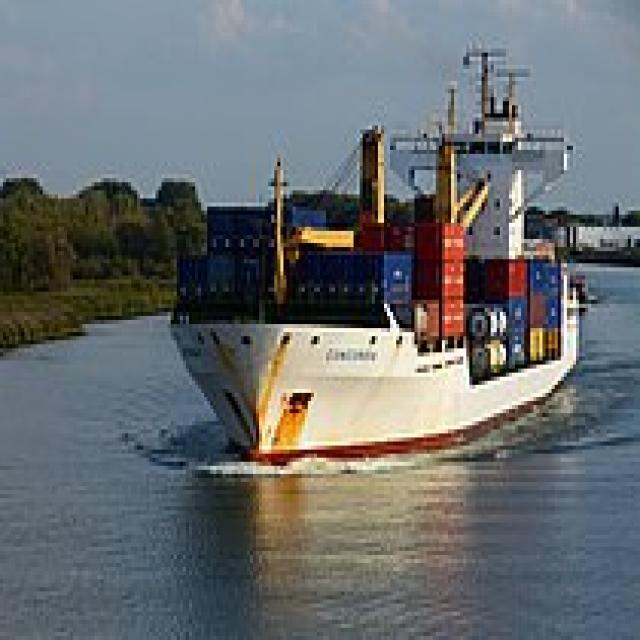Ship: (151, 25, 605, 479)
